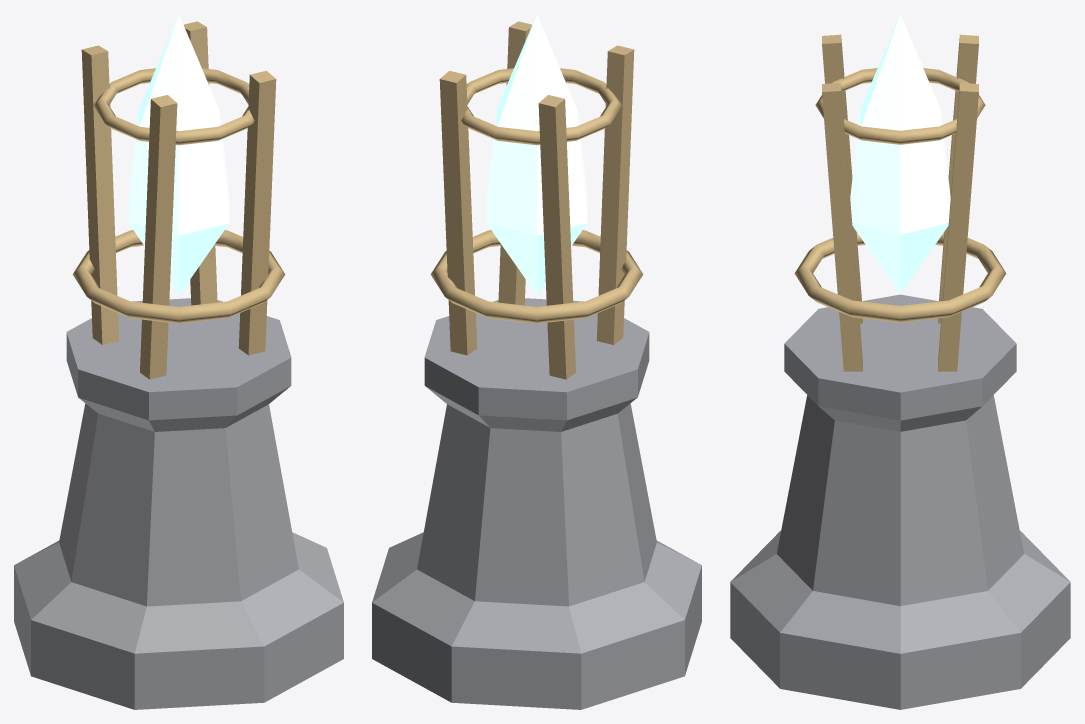
File: aether_pylon.glb
The picture shows the model from 3 angles, left to right: view 1: azimuth 30°, elevation 25°; view 2: azimuth 150°, elevation 25°; view 3: azimuth 270°, elevation 25°; orthographic projection.
Parts seen in each view (by area): view 1: aether_pylon; view 2: aether_pylon; view 3: aether_pylon.
Part boxes in pixels (box(x1,y1,x2,y2)): aether_pylon: box(14, 14, 343, 709); aether_pylon: box(372, 14, 701, 709); aether_pylon: box(730, 14, 1070, 709).
Size of the model in its own units: 4.4 by 8.9 by 4.4.
